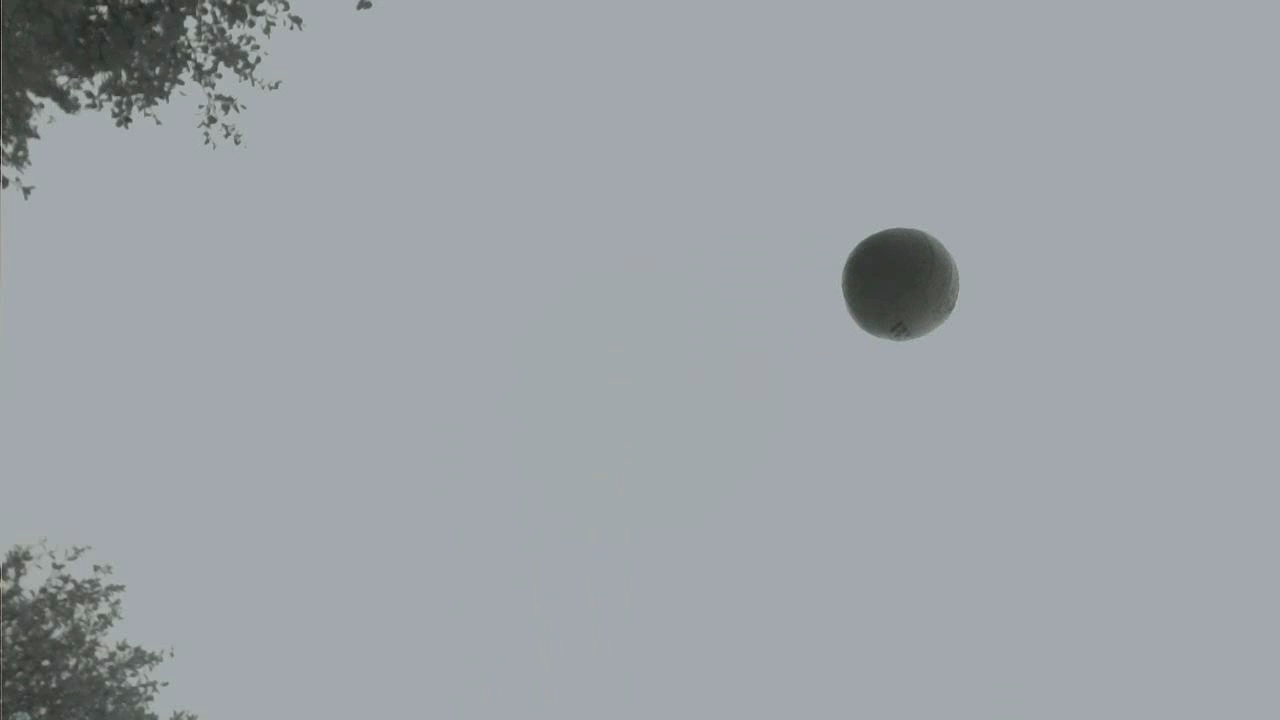Football-Spotter: (842, 228, 957, 340)
